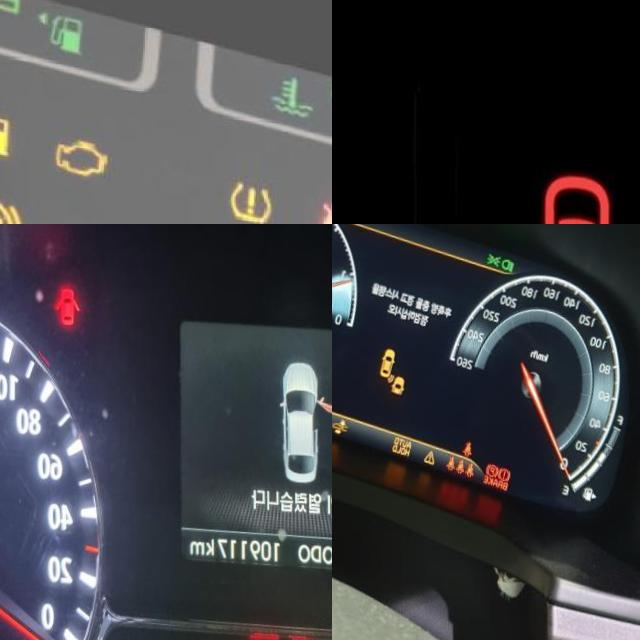Central Warning lamp: (425, 441, 439, 459)
High Engine Coolant Temperature: (269, 63, 318, 113)
Low beam: (501, 247, 517, 265)
SideLamp: (486, 242, 504, 262)
